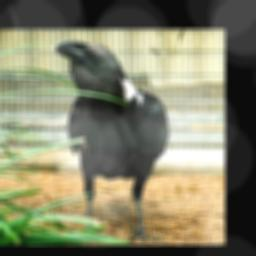Crow: (49, 39, 169, 243)
